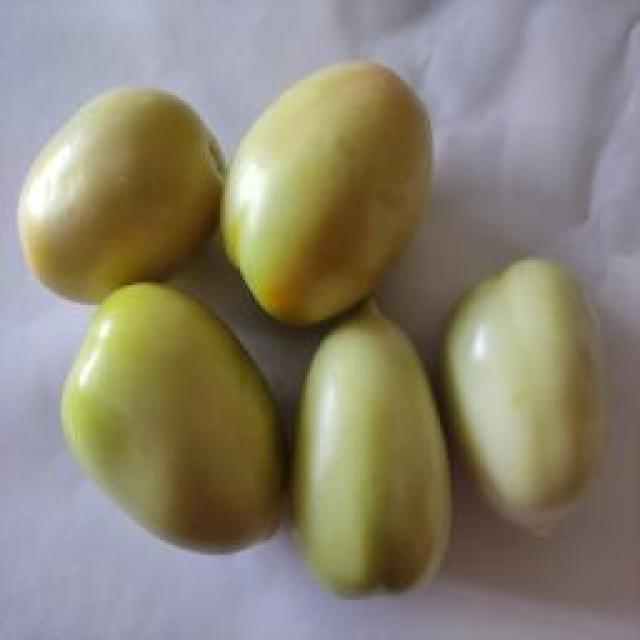tomato: (57, 282, 290, 553), (223, 61, 432, 322), (433, 256, 602, 534), (15, 85, 225, 301), (298, 304, 450, 599)
